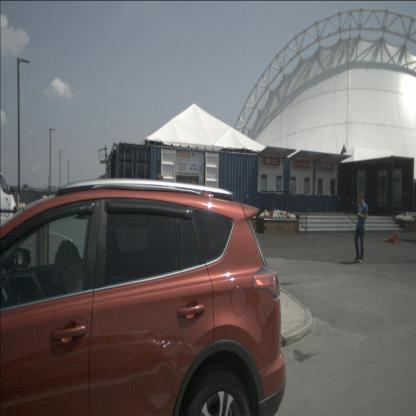cone: (383, 232, 399, 244)
